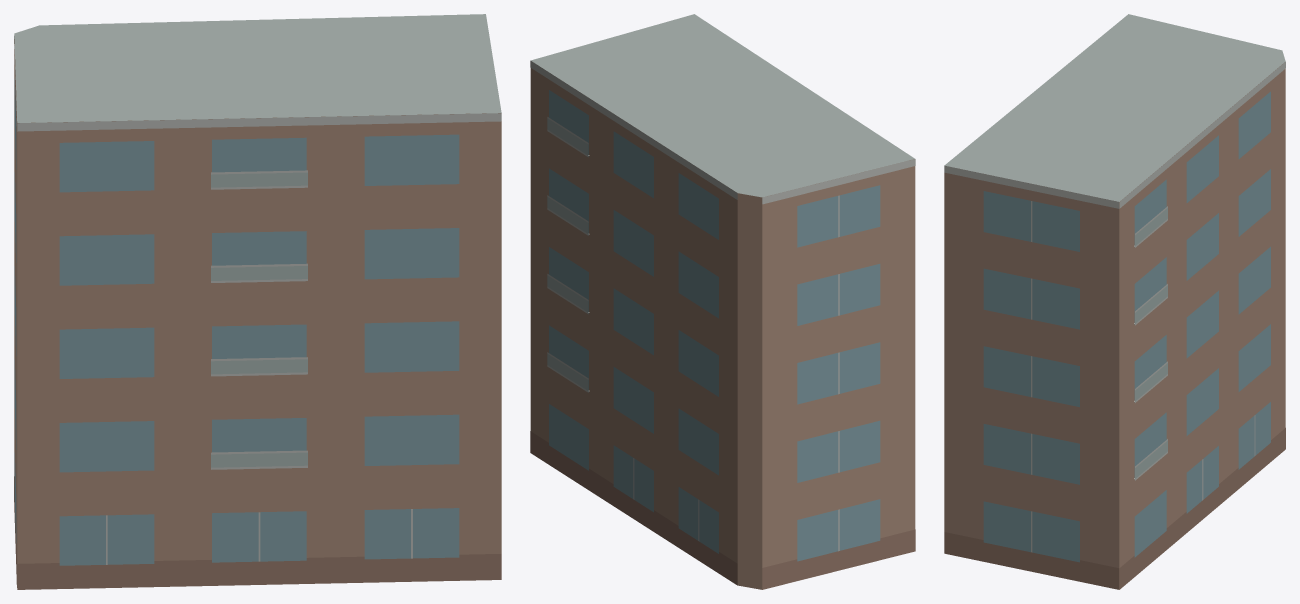
Rendered from survey-upis-33015178.glb.
3 views of the same model, side by side, from view 1: azimuth 30°, elevation 25°; view 2: azimuth 150°, elevation 25°; view 3: azimuth 270°, elevation 25° (orthographic). The views are drawn at different scales.
Parts seen in each view (by area): view 1: survey-upis-33015178.tmp; view 2: survey-upis-33015178.tmp; view 3: survey-upis-33015178.tmp.
Part boxes in pixels (bbox=[...]): survey-upis-33015178.tmp: bbox=[14, 14, 501, 589]; survey-upis-33015178.tmp: bbox=[530, 14, 915, 589]; survey-upis-33015178.tmp: bbox=[944, 14, 1285, 589].
Bounding box in the file's own units: 14.03 × 13.5 × 10.78.
